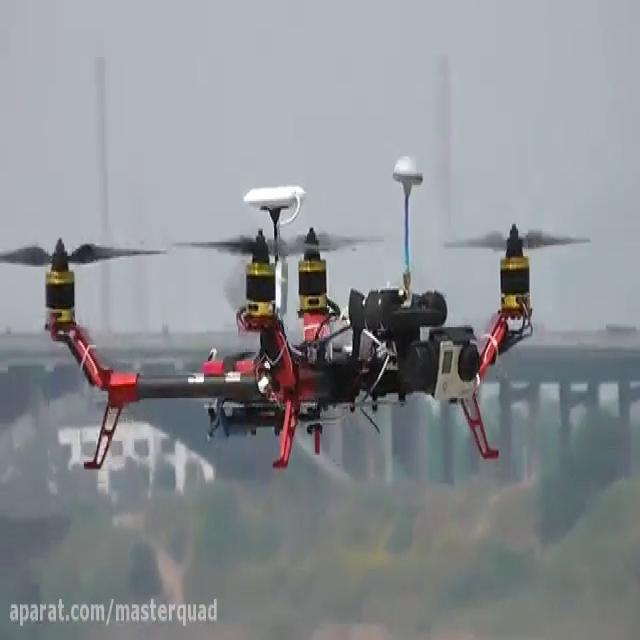drone: (0, 144, 595, 480)
